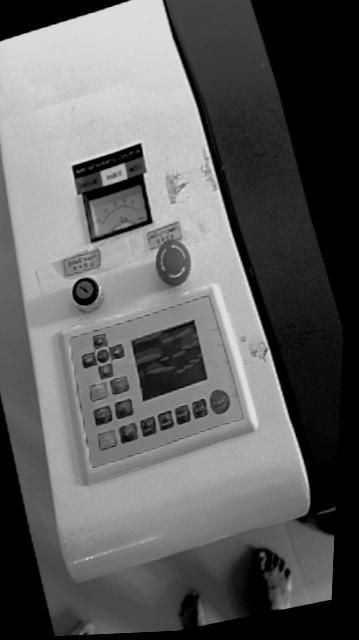Amp_Meter: (82, 175, 151, 242)
Display: (130, 321, 206, 401)
Down_button: (98, 364, 112, 379)
Emergency_Stop: (155, 239, 190, 286)
Enter_button: (88, 383, 107, 402)
Esc_button: (109, 377, 128, 395)
File_button: (118, 423, 137, 443)
Frame_button: (93, 406, 111, 426)
Left_button: (108, 344, 123, 360)
Max-Power_button: (139, 417, 155, 437)
Min-Power_button: (157, 411, 173, 431)
Origin_button: (114, 399, 132, 419)
Power_switch: (71, 278, 102, 313)
Pulse_button: (191, 399, 207, 419)
Reset_button: (209, 390, 229, 414)
Right_button: (81, 353, 95, 368)
Speed_button: (174, 405, 190, 425)
Start-Pause_button: (97, 430, 115, 450)
Up_button: (91, 334, 106, 350)
Z_U_button: (96, 349, 108, 363)
